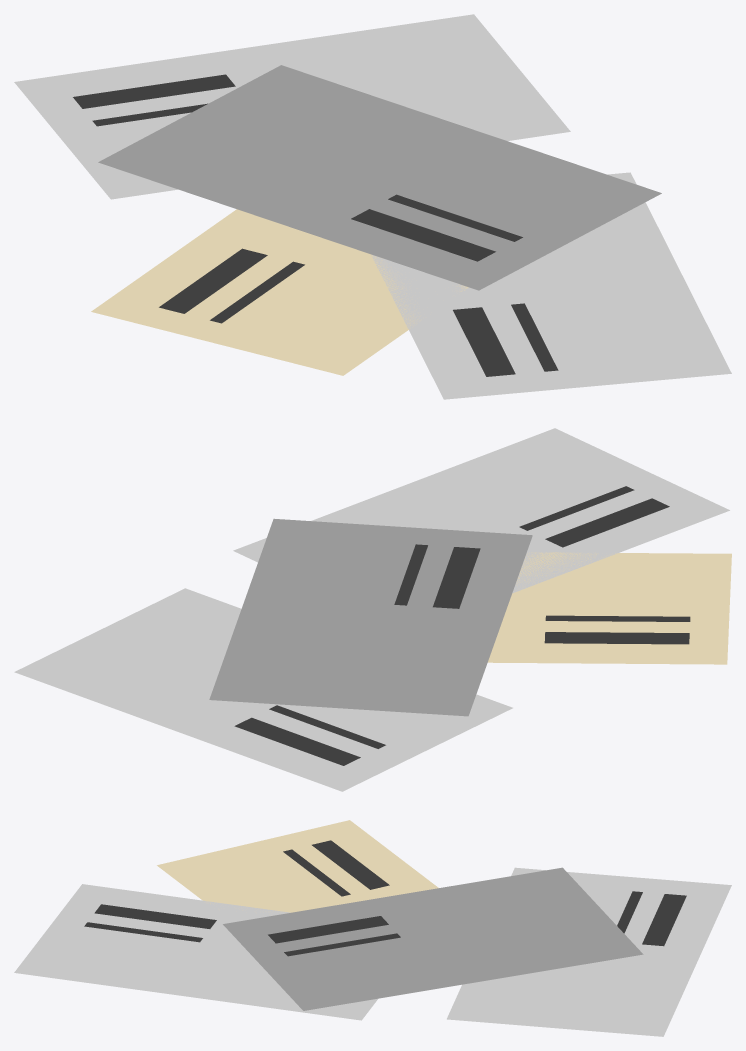
The model's file is Letters.fbx.
The picture shows the model from 3 angles, top to bottom: view 1: azimuth 30°, elevation 25°; view 2: azimuth 150°, elevation 25°; view 3: azimuth 270°, elevation 25°; orthographic projection. The views are drawn at different scales.
Visible parts, largest first — view 1: Plane.003; view 2: Plane.003; view 3: Plane.003.
Part boxes in pixels (x1,y1,x2,y2): Plane.003: (14,14,731,399); Plane.003: (14,428,731,791); Plane.003: (14,820,731,1036).
Size of the model in its own units: 40.07 by 0.5978 by 56.07.
